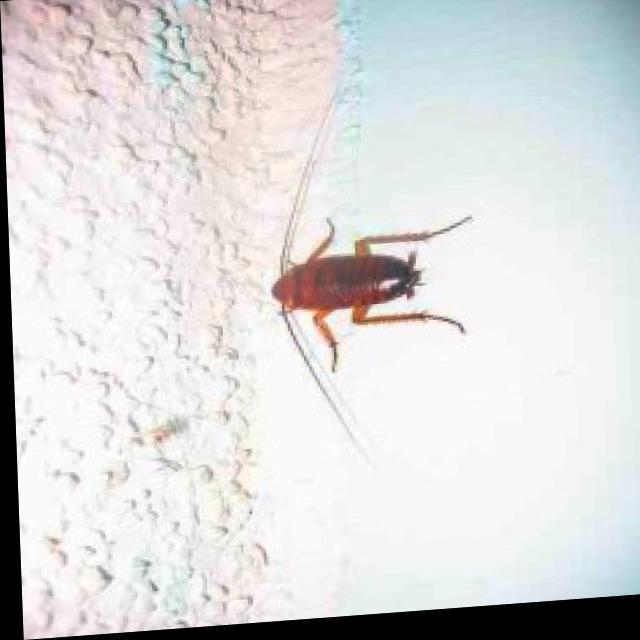cockroach: (269, 210, 477, 376)
